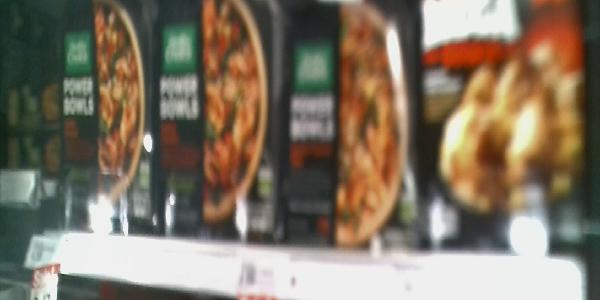pizza1: (423, 1, 585, 249), (287, 1, 423, 247), (160, 1, 287, 245), (40, 1, 160, 236)
